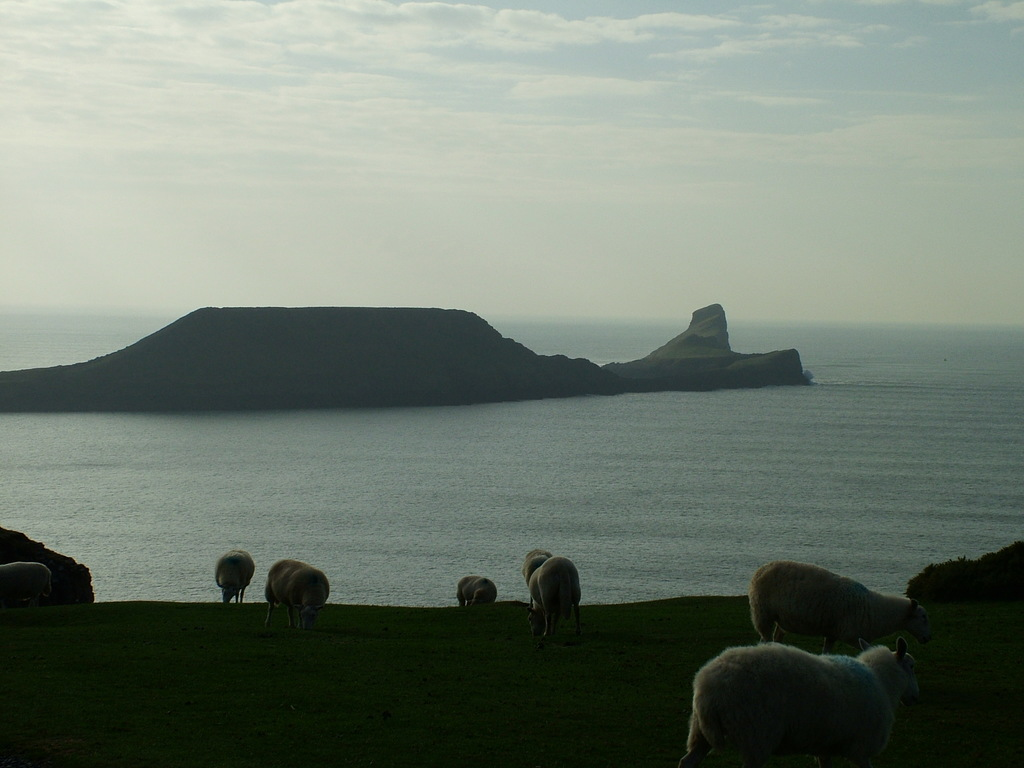sheep: (527, 560, 584, 641), (268, 558, 334, 626), (213, 545, 254, 601), (456, 575, 496, 617)
